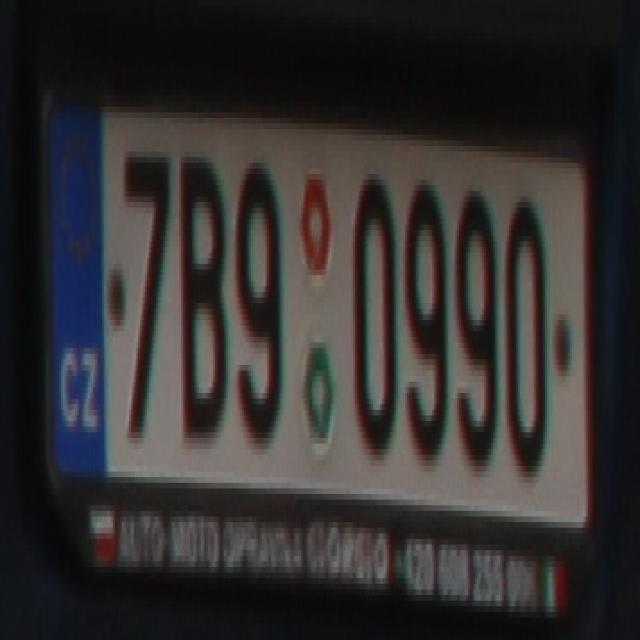0: (353, 169, 398, 449), (504, 191, 548, 471)
7: (118, 146, 170, 443)
9: (230, 146, 280, 443), (403, 174, 450, 455), (454, 185, 498, 460)
B: (177, 146, 226, 443)
